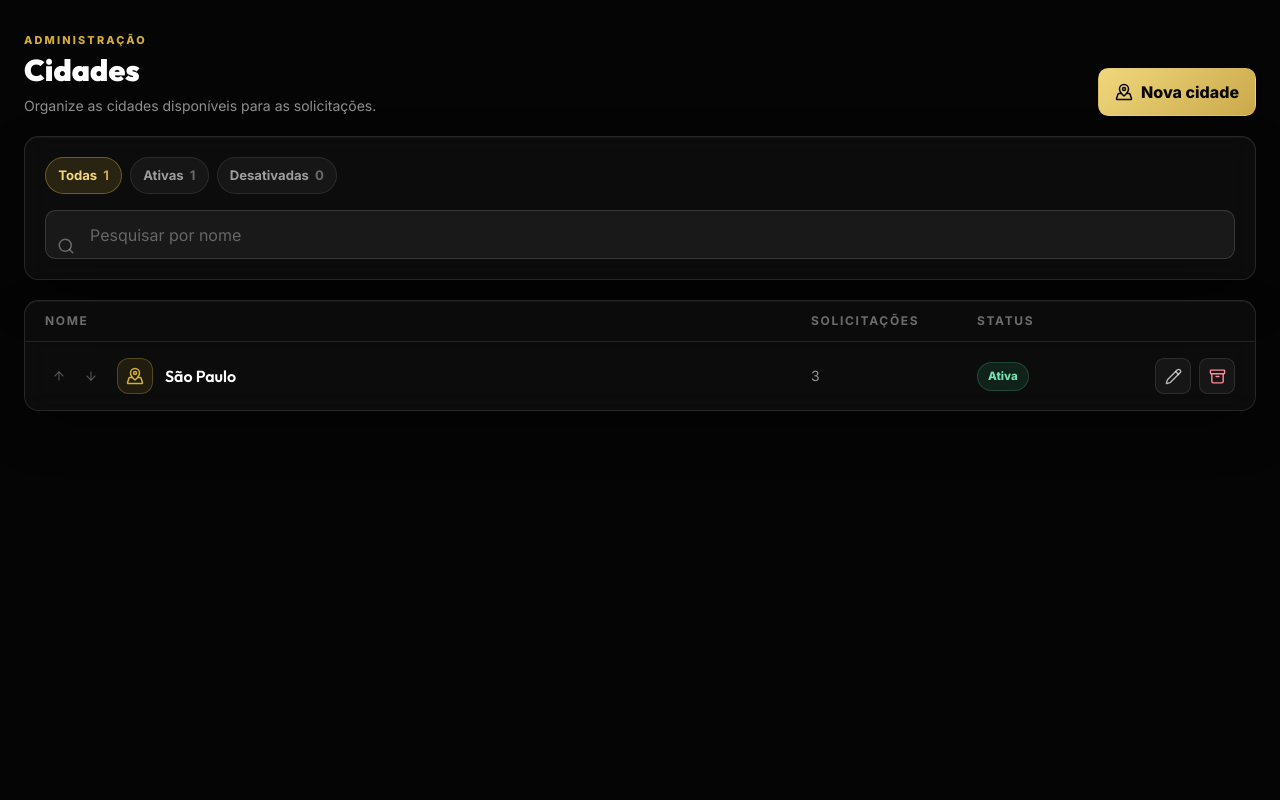
Test: CitiesPanel › não deixa snapshot iniciado durante rename reverter a resposta válida da mutação
Click the button named "Renomear São Paulo": [1173, 376] box top-left (1155, 358), bottom-right (1191, 394)
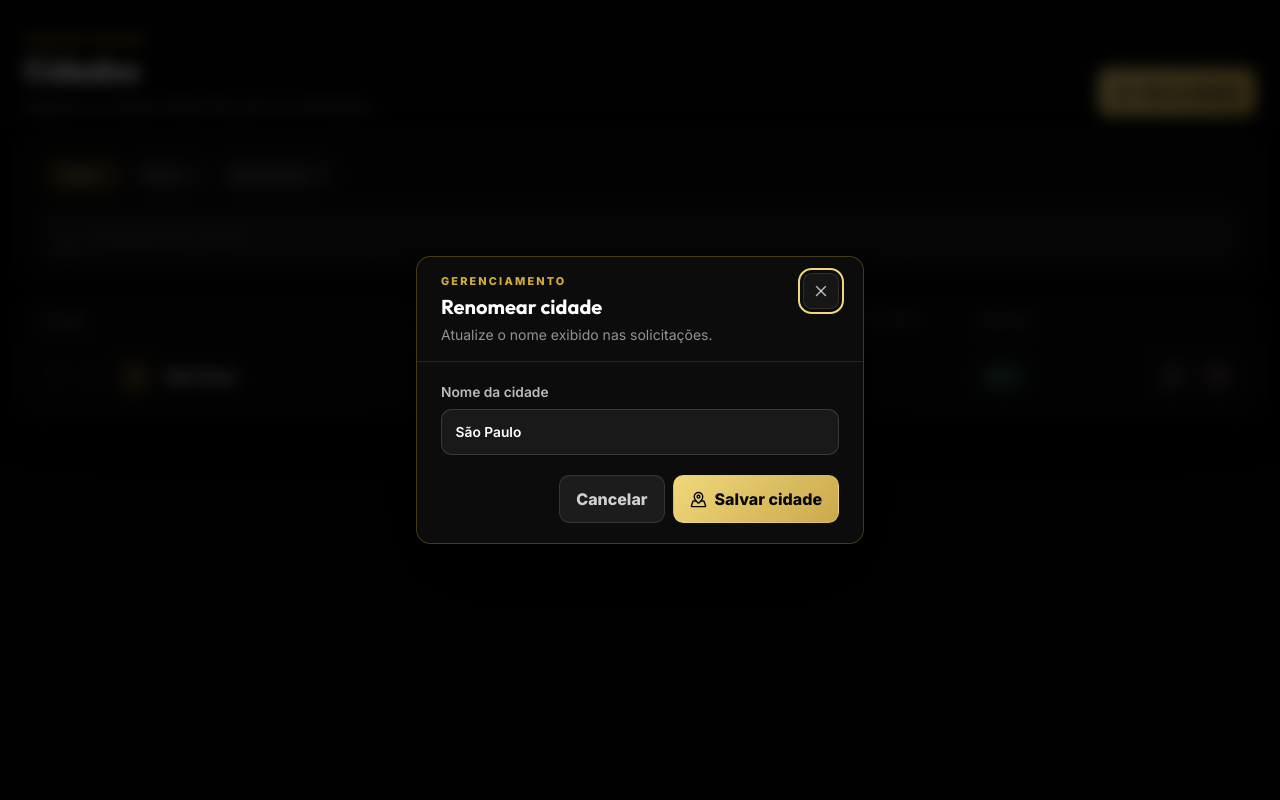
Replace the text in the field labelled "Nome da cidade" with "São Paulo Aplicada": [640, 432] box top-left (441, 409), bottom-right (839, 455)
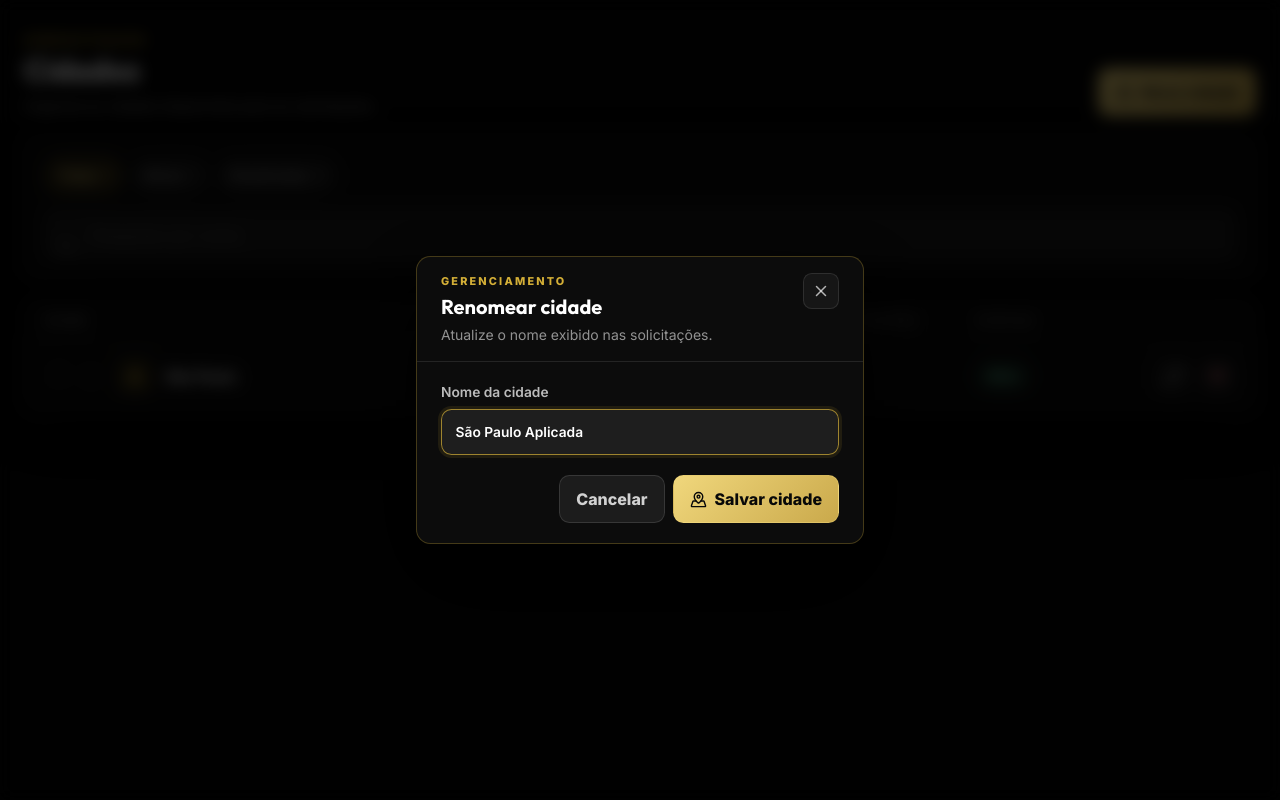
Click the button "Salvar cidade": [756, 499] box top-left (672, 475), bottom-right (839, 523)
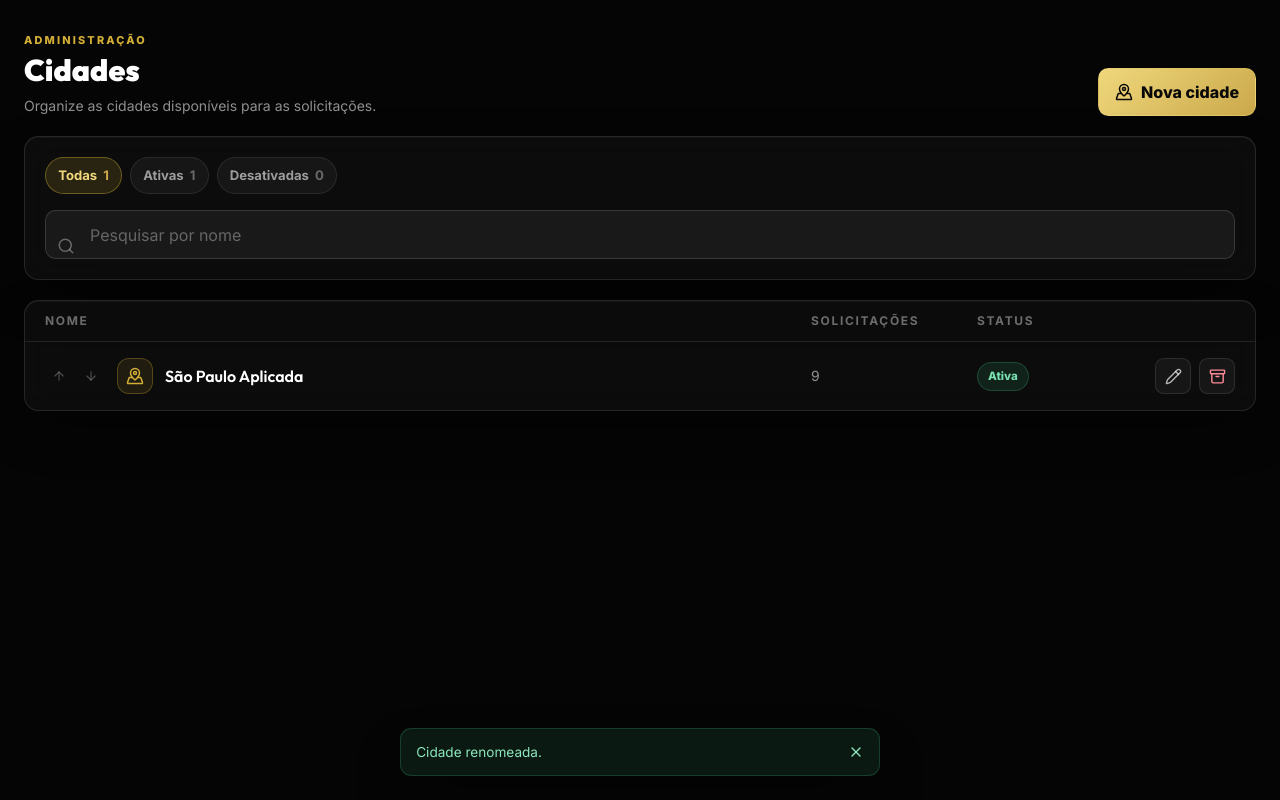
Check: the heading "São Paulo Aplicada" is shown, box top-left (165, 364), bottom-right (304, 388)
Check: the text "9" is shown, box top-left (811, 367), bottom-right (820, 384)
